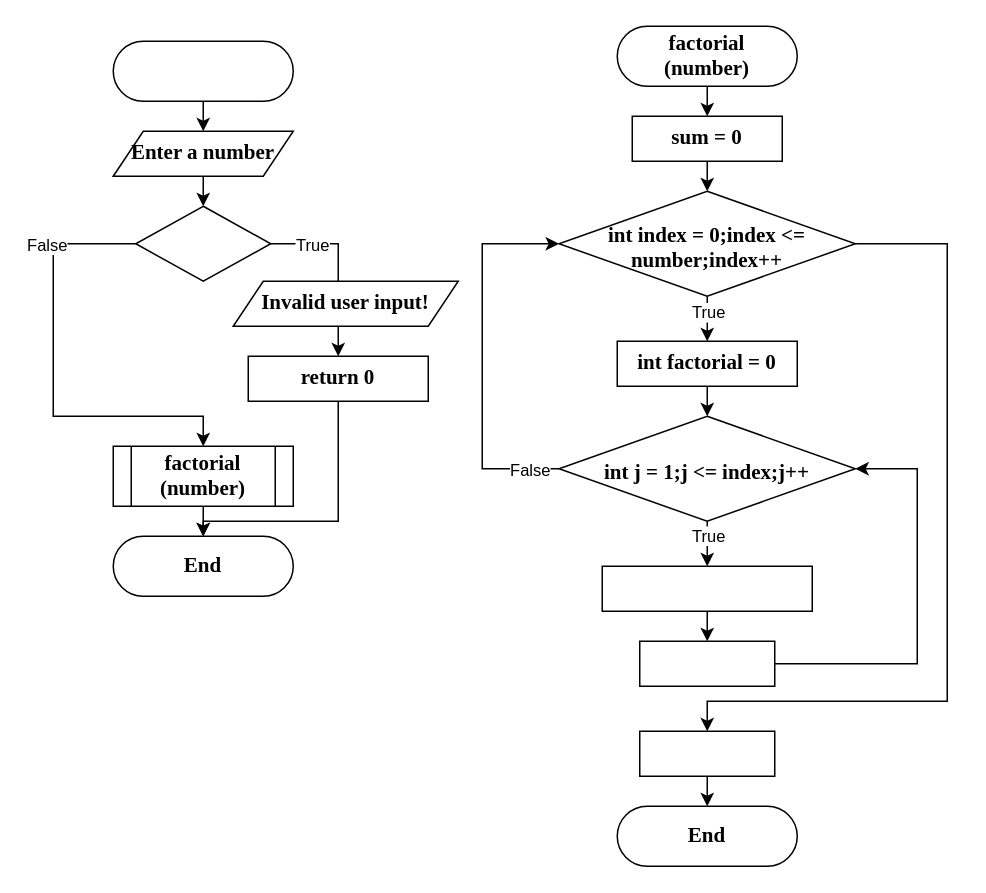
Image size: 986x893. Some labels were removed from this diagram. The shapes that lost their labels are listed below. From the top down, each one's centre as x and y in pixels, then its label:
(x=202, y=70): Beginning
(x=202, y=243): number < 0
(x=706, y=588): factorial = factorial * j
(x=706, y=663): sum = sum + 1.0 / factorial
(x=706, y=753): return sum
